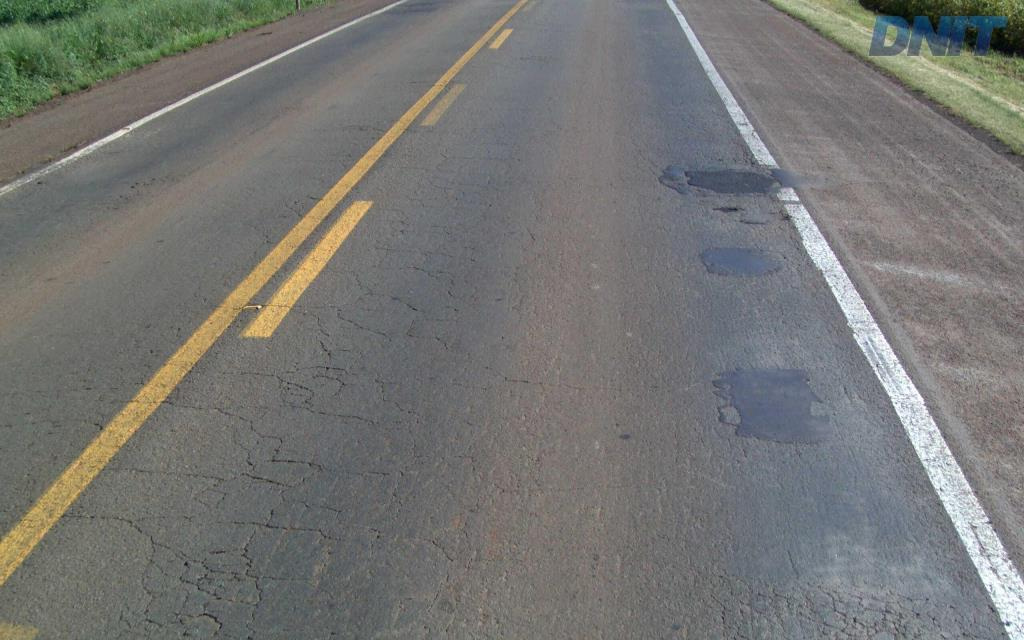crack: (239, 450, 314, 490), (263, 445, 339, 484)
